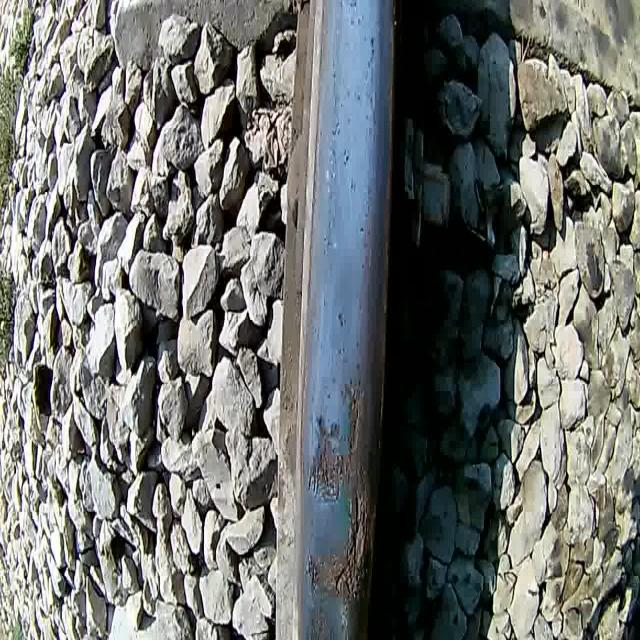Cracks: (332, 481, 372, 602), (300, 451, 343, 501), (304, 546, 321, 600)
Spallings: (308, 378, 361, 482)
Squats: (292, 371, 378, 605), (301, 601, 338, 640)
